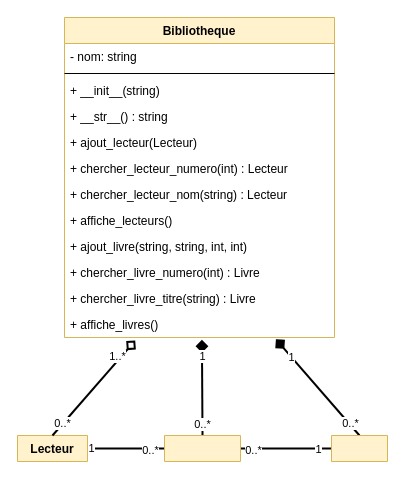
The diagram is 405 pixels wide and 479 high, and some of its shapes have lost their labels. Here are the shapes that lost their labels. From the top down, the centre of each, then its label:
At point (202, 448): "Emprunt".
At point (359, 448): "Livre".
